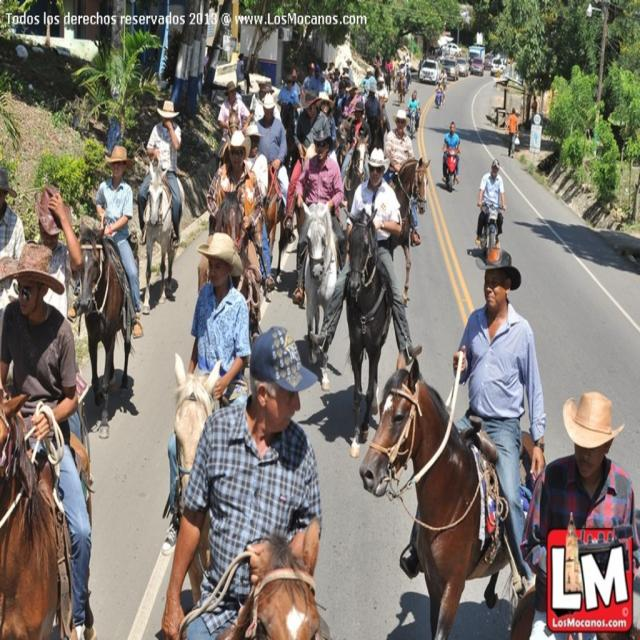Hat: (248, 326, 318, 391), (562, 389, 624, 450), (0, 240, 64, 295), (196, 229, 241, 276), (473, 248, 521, 292), (34, 185, 72, 237), (103, 145, 136, 171), (366, 144, 390, 177), (229, 128, 252, 162), (0, 165, 20, 198), (311, 126, 334, 146), (301, 90, 321, 110), (158, 100, 178, 117), (320, 89, 334, 109), (263, 90, 276, 110), (393, 108, 408, 125), (285, 71, 300, 83), (225, 84, 237, 96), (252, 121, 260, 138), (488, 159, 499, 169), (353, 105, 363, 111), (378, 75, 386, 82)
